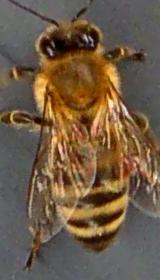varroa_mite: (106, 144, 138, 182)
